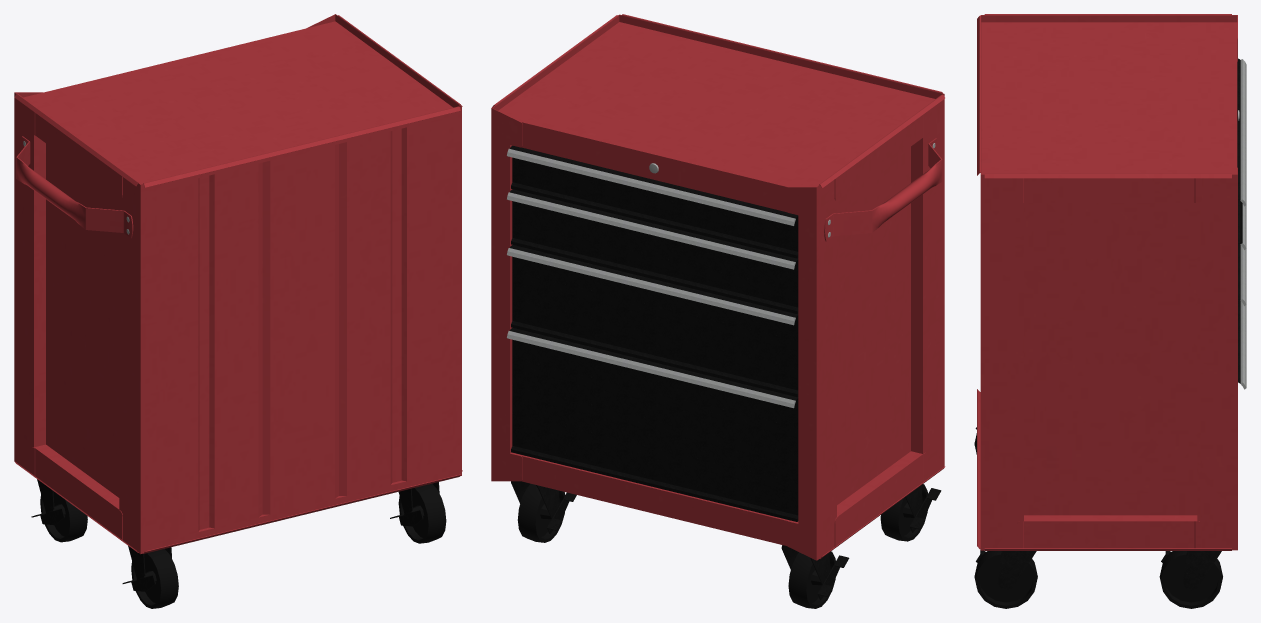
The model's file is ToolBox_red.dae.
3 renders of one model, left to right at view 1: azimuth 30°, elevation 25°; view 2: azimuth 150°, elevation 25°; view 3: azimuth 270°, elevation 25°, orthographic.
Parts seen in each view (by area): view 1: ToolBox_red, TB_Handle; view 2: ToolBox_red, TB_Drawer_4, TB_Drawer_3, TB_Drawer_2, TB_Drawer_1, TB_Handle; view 3: ToolBox_red, TB_Drawer_1, TB_Drawer_4, TB_Drawer_3, TB_Drawer_2.
Boxes of the visible parts, x1,y1,x2,y2 form: ToolBox_red: (14, 14, 462, 608); TB_Handle: (16, 136, 133, 238); ToolBox_red: (491, 14, 945, 608); TB_Drawer_4: (507, 328, 798, 521); TB_Drawer_3: (507, 245, 798, 396); TB_Drawer_2: (507, 189, 798, 313); TB_Drawer_1: (507, 145, 798, 258); TB_Handle: (824, 138, 942, 241); ToolBox_red: (974, 14, 1239, 608); TB_Drawer_1: (1237, 58, 1246, 206); TB_Drawer_4: (1238, 299, 1246, 389); TB_Drawer_3: (1238, 243, 1246, 305); TB_Drawer_2: (1238, 199, 1246, 249).
Bounding box in the file's own units: 0.7466 × 0.4848 × 0.8751.
Materials: 4 (4 with a texture image).
